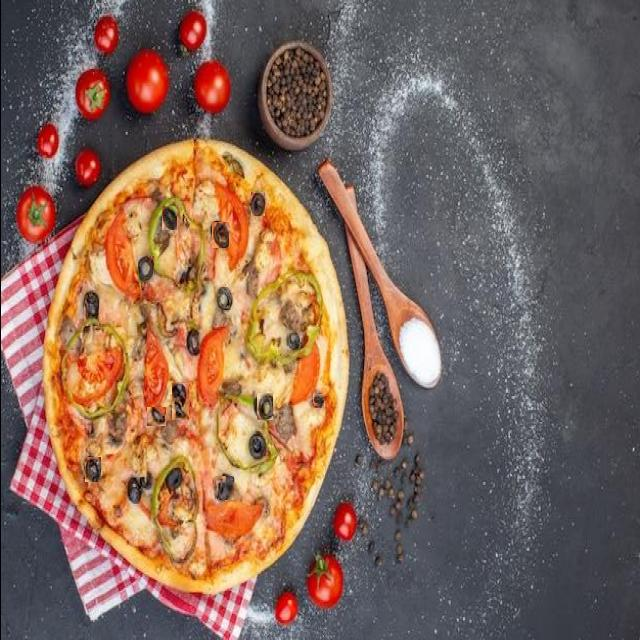olive: (171, 383, 188, 420), (83, 291, 98, 326), (214, 287, 234, 313), (187, 322, 201, 357), (211, 222, 228, 248), (256, 393, 272, 420), (215, 476, 233, 500), (137, 256, 153, 282), (167, 465, 184, 489), (84, 457, 100, 482), (127, 478, 141, 506), (146, 407, 165, 426), (161, 206, 176, 230), (249, 434, 264, 458), (250, 192, 264, 216), (140, 469, 151, 494), (286, 330, 298, 352), (312, 394, 323, 408)
pizza: (41, 137, 348, 603)
